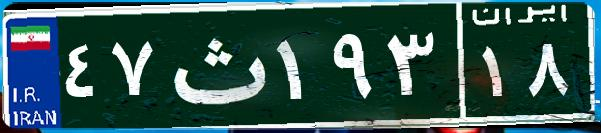1: (273, 28, 330, 110), (475, 38, 525, 113)
3: (385, 28, 445, 110)
4: (57, 26, 110, 107)
7: (110, 28, 158, 105)
8: (525, 38, 570, 115)
9: (330, 28, 385, 110)
ث: (158, 15, 273, 115)
